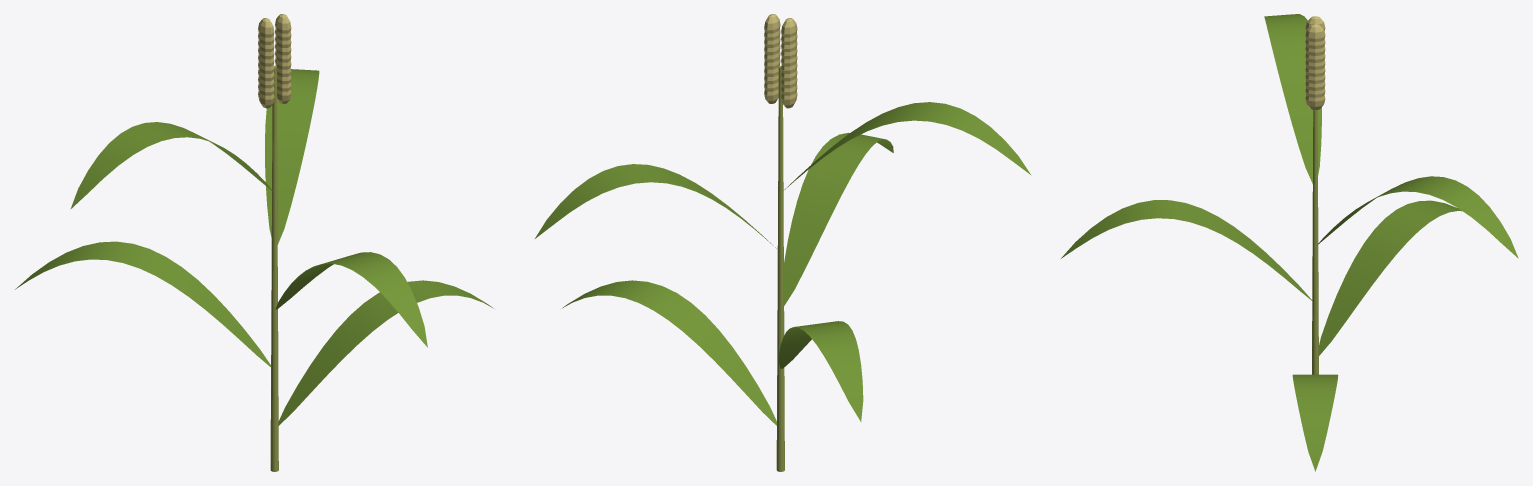
Rendered from crop.glb.
3 views of the same model, side by side, from view 1: azimuth 30°, elevation 25°; view 2: azimuth 150°, elevation 25°; view 3: azimuth 270°, elevation 25° (orthographic). The views are drawn at different scales.
Parts seen in each view (by area): view 1: Original wheat asset / leaves stem grain; view 2: Original wheat asset / leaves stem grain; view 3: Original wheat asset / leaves stem grain.
Boxes of the visible parts, left/top/right/bottom form: Original wheat asset / leaves stem grain: left=15, top=14, right=493, bottom=471; Original wheat asset / leaves stem grain: left=535, top=14, right=1031, bottom=471; Original wheat asset / leaves stem grain: left=1061, top=14, right=1518, bottom=471.
Bounding box in the file's own units: 1.79 × 1.69 × 1.61.
